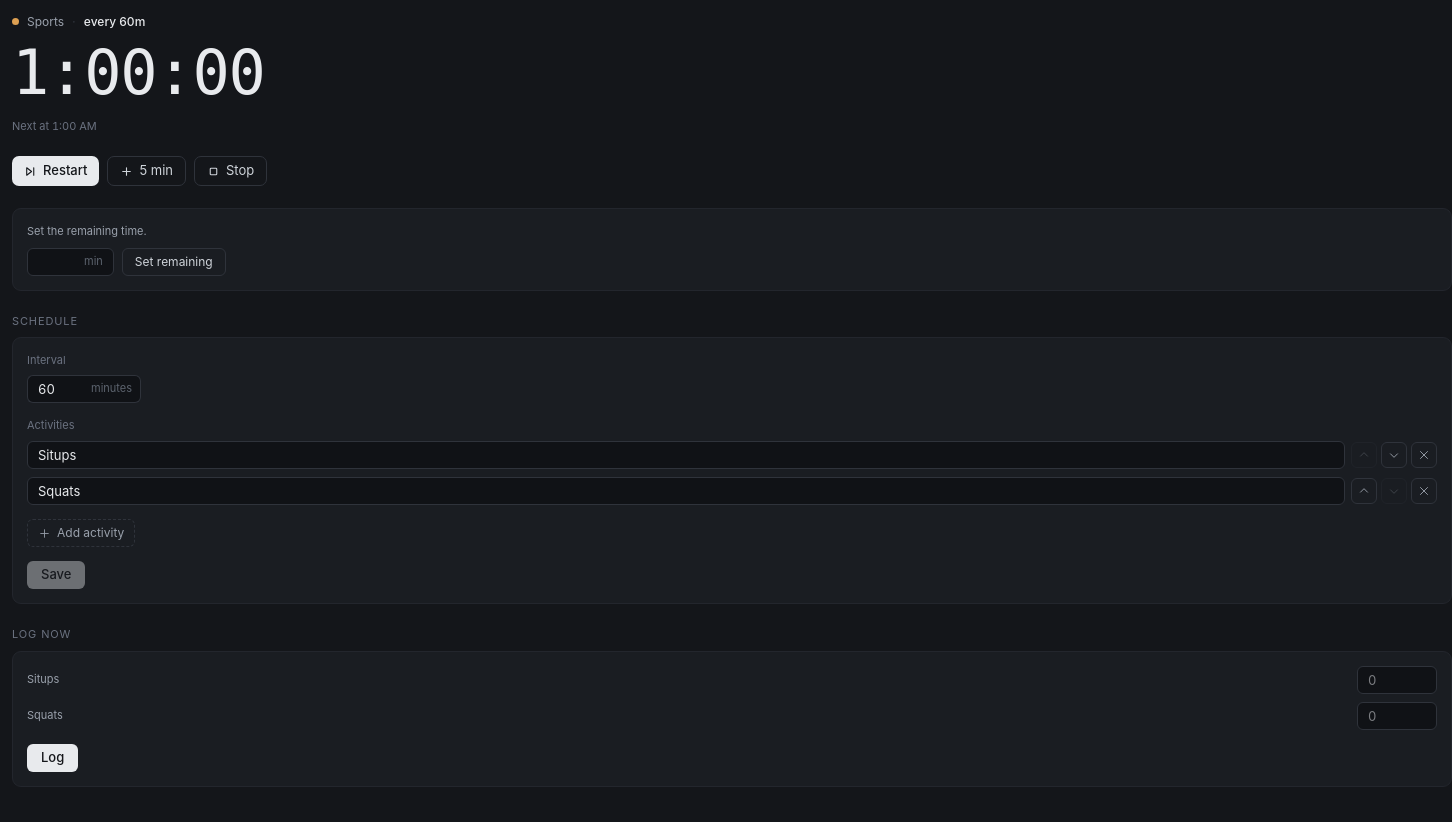
when Save is worth offering › wakes up for an edit and goes quiet once saved
The width and height of the screenshot is (1452, 822).
Expected: the 1st field showing "Situps" is shown, [27,441,1345,469]
Replace the text in the number field labelled "Interval" with "45" at coordinates (59, 388), box [27,374,91,402]
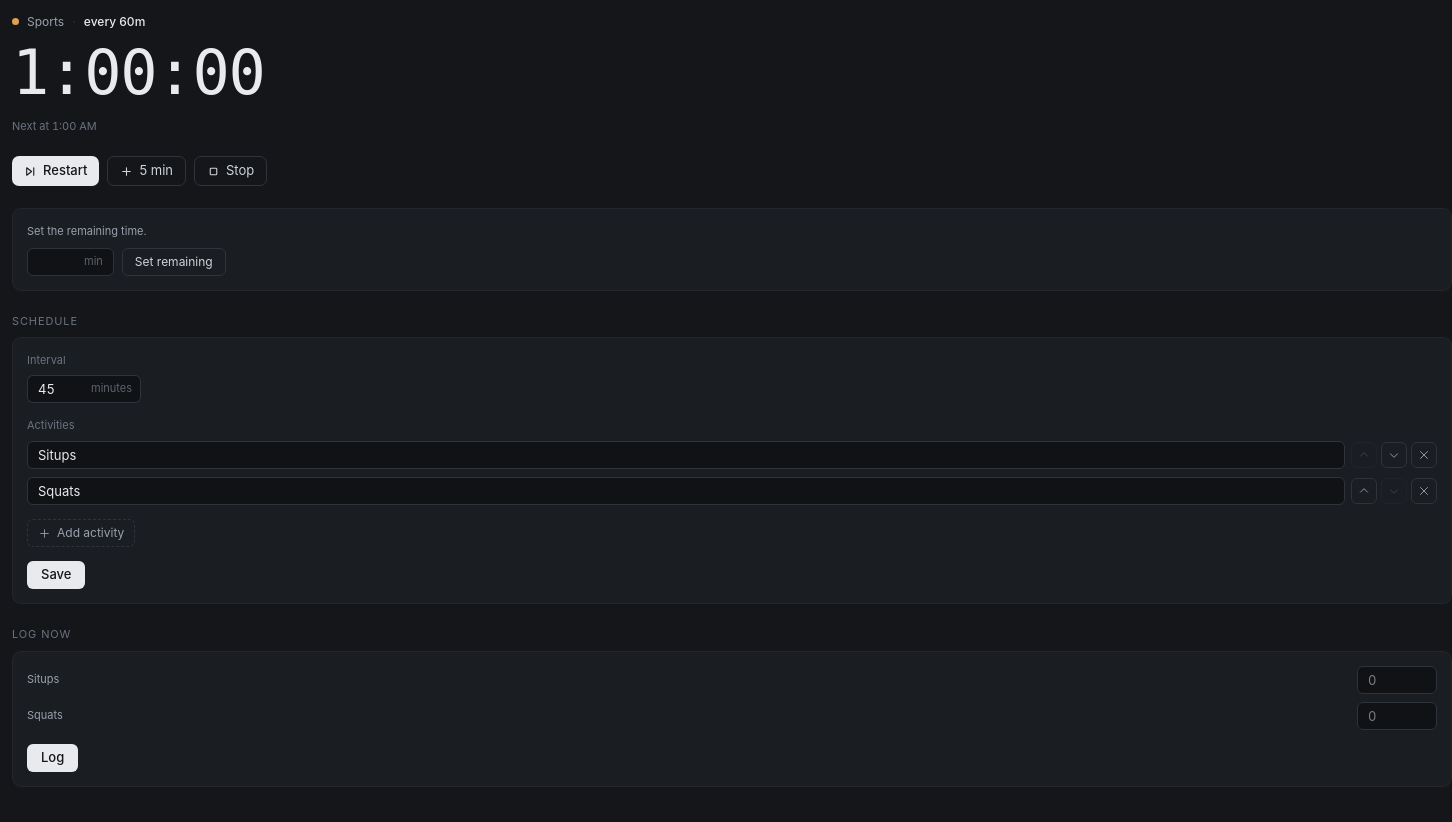
Now the button "Save" is enabled
Click the button "Save" at coordinates (56, 575), box [27,561,85,589]
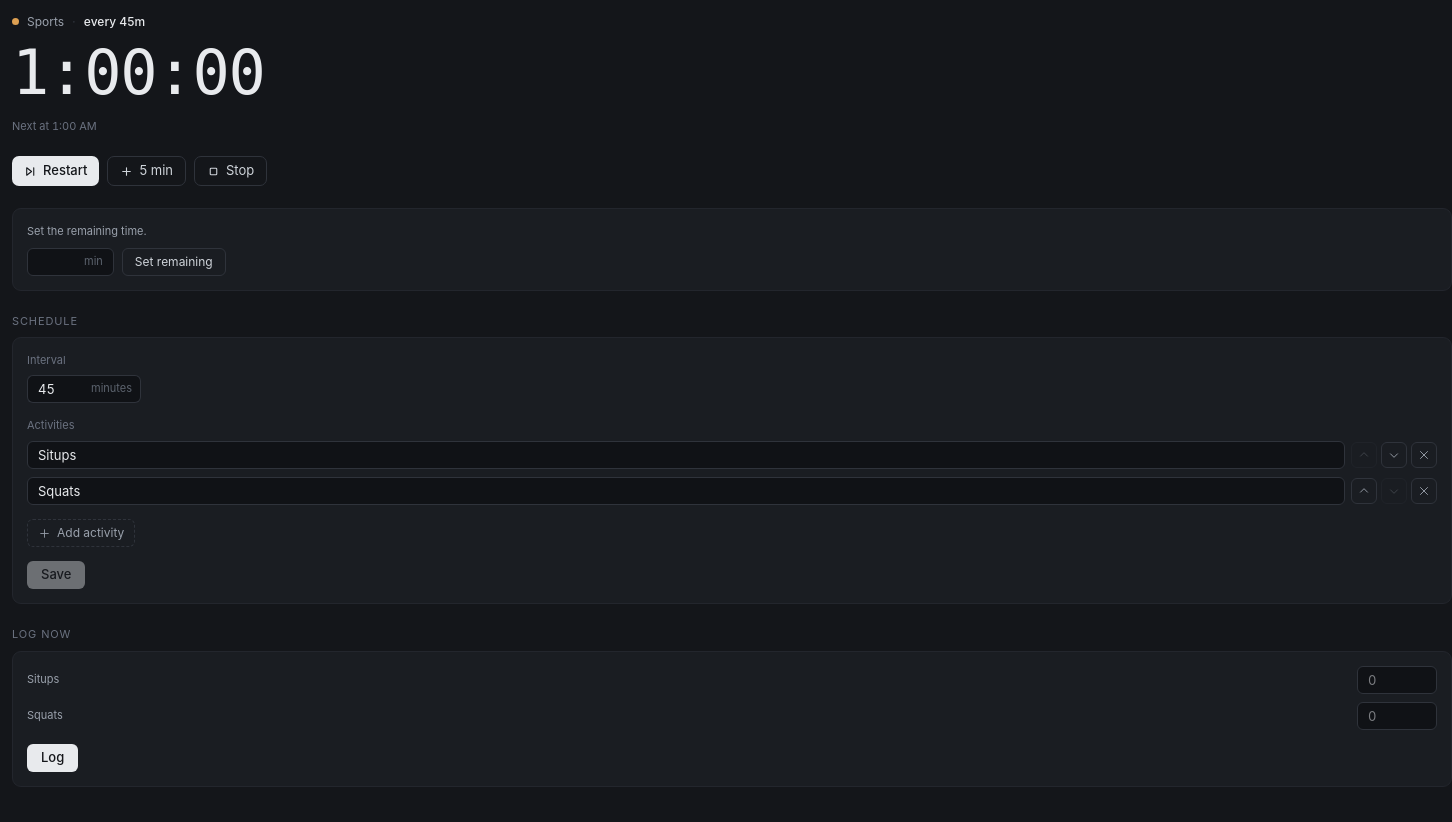
Now the button "Save" is disabled, box [27,561,85,589]
